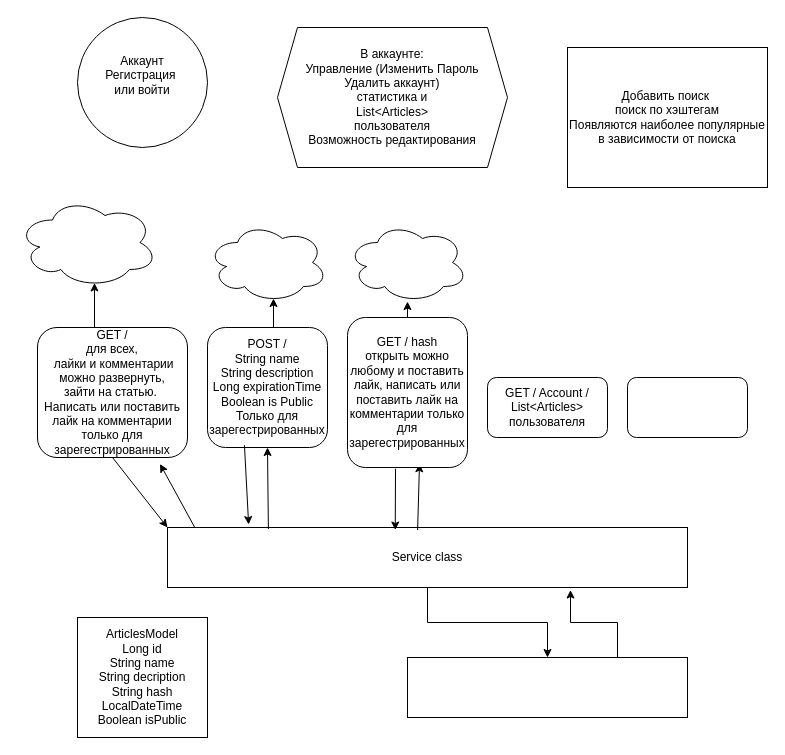
The diagram is 785 pixels wide and 755 high, and some of its shapes have lost their labels. The shapes that lost their labels are listed below. From the top down, each one's centre as x and y in pixels, then its label:
At point (87, 242): "топ 10 articles по лайкам и по просмотрам".
At point (267, 262): "Massage Сохранено ссылка hash".
At point (407, 262): "Article".
At point (547, 687): "Repository".
